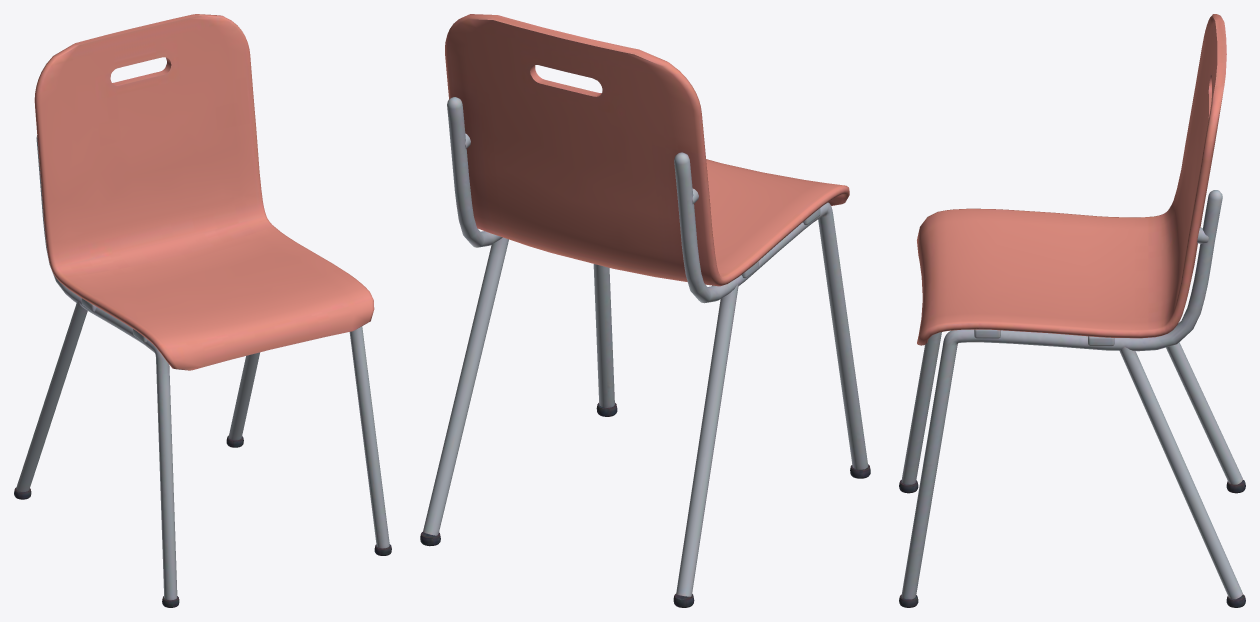
File: stackable-school-chair.glb
3 views of the same model, side by side, from view 1: azimuth 30°, elevation 25°; view 2: azimuth 150°, elevation 25°; view 3: azimuth 270°, elevation 25° (orthographic). The views are drawn at different scales.
Visible parts, largest first — view 1: stackable-school-chair_body; view 2: stackable-school-chair_body; view 3: stackable-school-chair_body.
Boxes of the visible parts, <box> form: stackable-school-chair_body: <box>14,14,391,607</box>; stackable-school-chair_body: <box>420,14,870,607</box>; stackable-school-chair_body: <box>899,14,1245,607</box>.
Size of the model in its own units: 0.4351 by 0.8165 by 0.5191.
1 material, 1 textured.
